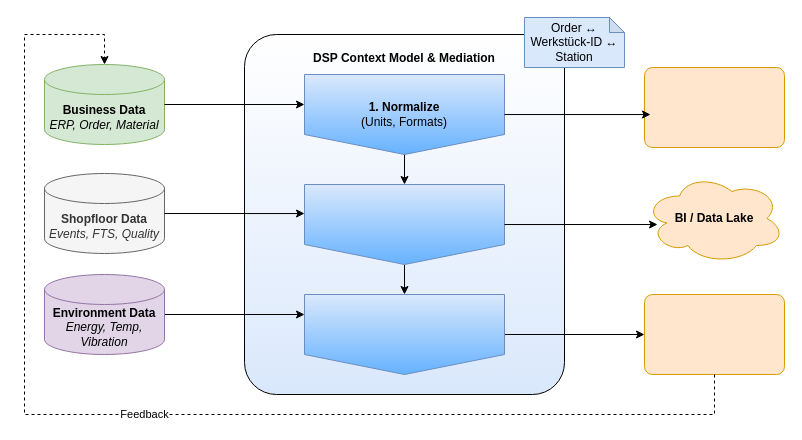
Image size: 802x440. Some labels were removed from this diagram. Here are the shapes that lost their labels. From the top down, the centre of each, then its label:
(x=714, y=107): Analytics & AI App
(x=404, y=224): 2. Enrich (Add Content)
(x=404, y=334): 2. Correlate (Link Data)
(x=714, y=334): Closed Loop / ERP
